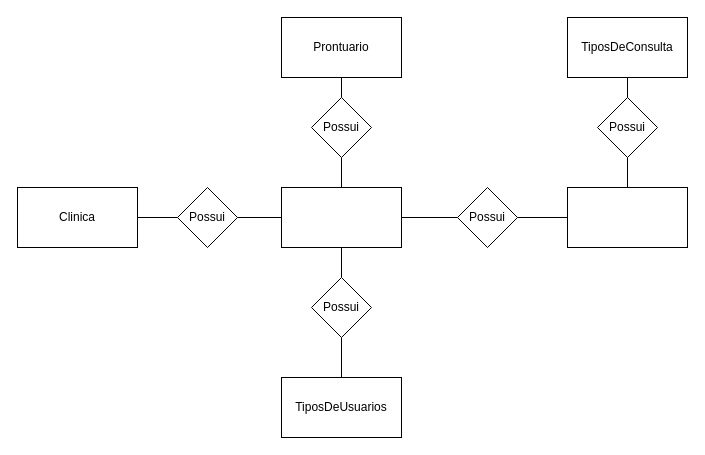
This 705x455 diagram has some shape labels left out. Here are the shapes that lost their labels. From the top down, the centre of each, then its label:
At point (341, 217): "Usuario".
At point (627, 217): "Consulta".
